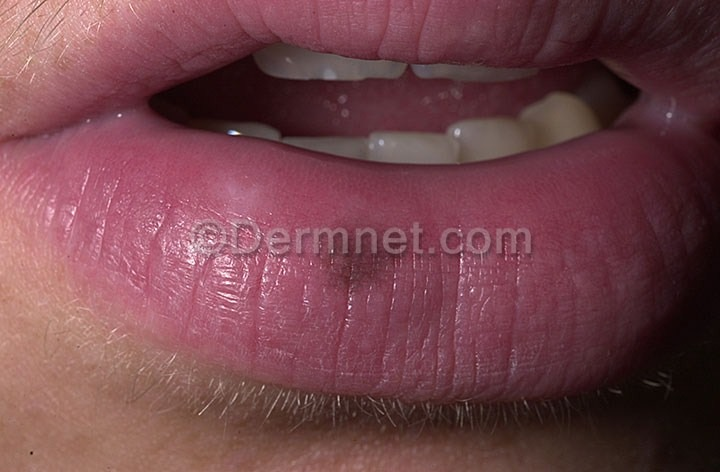Melasma: (105, 131, 516, 388), (12, 156, 191, 302)
